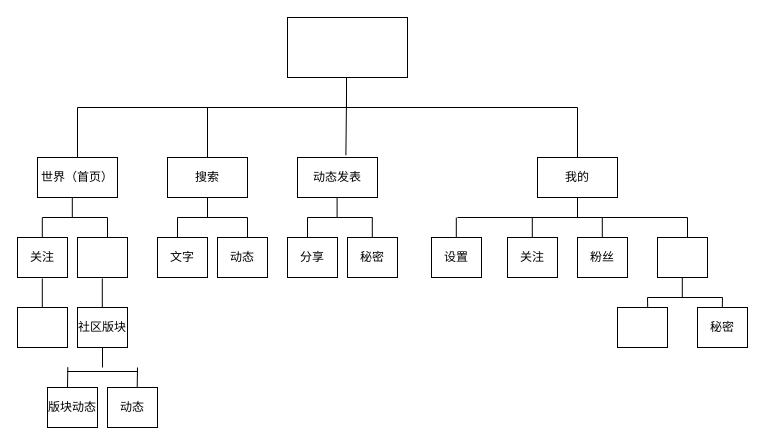
This 765x445 diagram has some shape labels left out. The centre of each missing label's shape, as x and y in pixels:
好友动态: the point at 42,327
广场: the point at 102,257
我的小屋: the point at 682,257
时间轴: the point at 642,327
白领女性社区APP: the point at 347,47
